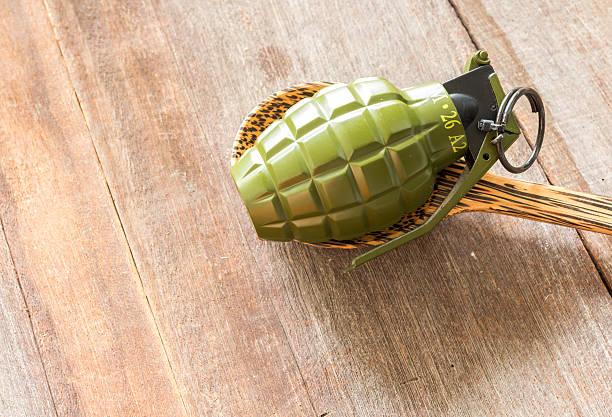e1: (232, 52, 548, 264)
